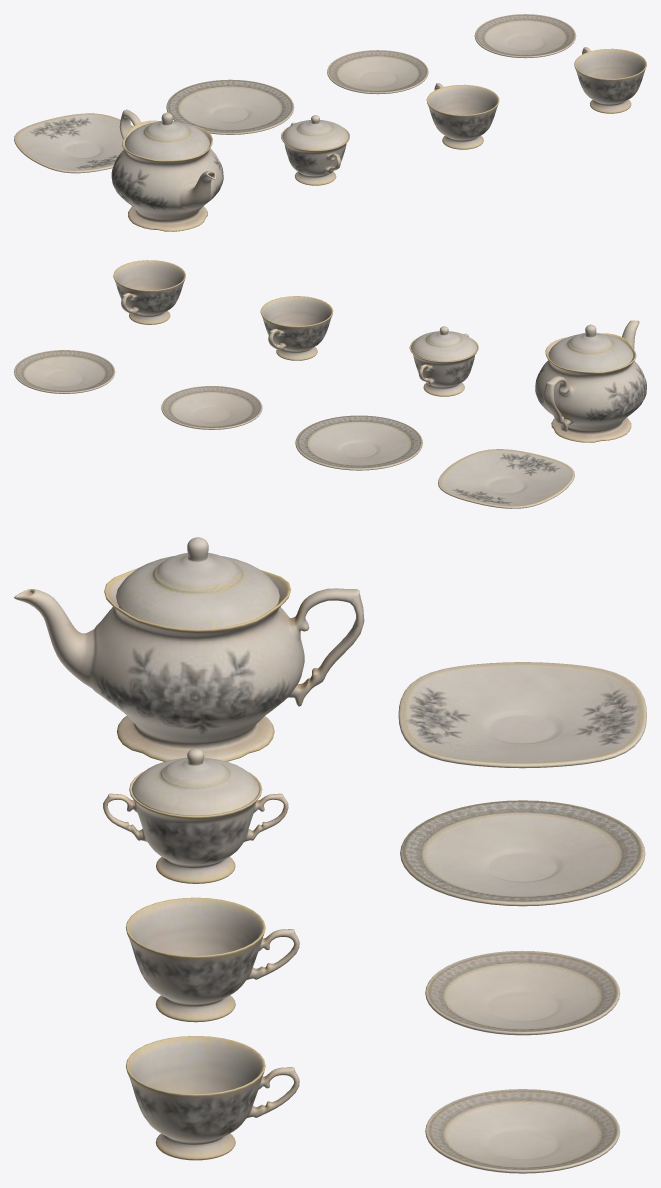
The model's file is tea_set_01_512.gltf.
The picture shows the model from 3 angles, top to bottom: view 1: azimuth 30°, elevation 25°; view 2: azimuth 150°, elevation 25°; view 3: azimuth 270°, elevation 25°; orthographic projection. The views are drawn at different scales.
Parts seen in each view (by area): view 1: tea_set_01_teapot_01, tea_set_01_plate_large_circular_03, tea_set_01_plate_large_square_01, tea_set_01_cup_small_01, tea_set_01_cup_small_02, tea_set_01_saucer_circular_03, tea_set_01_saucer_circular_04, tea_set_01_teapot_01_lid, tea_set_01_sugar_cup_01, tea_set_01_sugar_cup_01_lid; view 2: tea_set_01_teapot_01, tea_set_01_plate_large_square_01, tea_set_01_plate_large_circular_03, tea_set_01_cup_small_01, tea_set_01_cup_small_02, tea_set_01_saucer_circular_04, tea_set_01_saucer_circular_03, tea_set_01_teapot_01_lid, tea_set_01_sugar_cup_01, tea_set_01_sugar_cup_01_lid; view 3: tea_set_01_teapot_01, tea_set_01_plate_large_square_01, tea_set_01_plate_large_circular_03, tea_set_01_cup_small_01, tea_set_01_cup_small_02, tea_set_01_saucer_circular_03, tea_set_01_saucer_circular_04, tea_set_01_teapot_01_lid, tea_set_01_sugar_cup_01, tea_set_01_sugar_cup_01_lid.
Boxes of the visible parts, box(x1,y1,x2,y2) form: tea_set_01_teapot_01: box(111, 109, 223, 231); tea_set_01_plate_large_circular_03: box(166, 79, 294, 134); tea_set_01_plate_large_square_01: box(14, 113, 133, 173); tea_set_01_cup_small_01: box(426, 83, 499, 149); tea_set_01_cup_small_02: box(574, 47, 646, 113); tea_set_01_saucer_circular_03: box(474, 14, 576, 58); tea_set_01_saucer_circular_04: box(327, 50, 428, 94); tea_set_01_teapot_01_lid: box(125, 112, 209, 160); tea_set_01_sugar_cup_01: box(281, 122, 349, 185); tea_set_01_sugar_cup_01_lid: box(282, 115, 348, 150); tea_set_01_teapot_01: box(535, 320, 646, 442); tea_set_01_plate_large_square_01: box(438, 449, 574, 508); tea_set_01_plate_large_circular_03: box(295, 415, 422, 470); tea_set_01_cup_small_01: box(260, 296, 333, 360); tea_set_01_cup_small_02: box(113, 260, 185, 324); tea_set_01_saucer_circular_04: box(161, 386, 262, 429); tea_set_01_saucer_circular_03: box(14, 350, 115, 393); tea_set_01_teapot_01_lid: box(548, 324, 633, 371); tea_set_01_sugar_cup_01: box(409, 333, 478, 396); tea_set_01_sugar_cup_01_lid: box(411, 326, 477, 361); tea_set_01_teapot_01: box(14, 568, 364, 761); tea_set_01_plate_large_square_01: box(398, 662, 646, 768); tea_set_01_plate_large_circular_03: box(400, 800, 645, 906); tea_set_01_cup_small_01: box(125, 897, 299, 1022); tea_set_01_cup_small_02: box(126, 1036, 299, 1160); tea_set_01_saucer_circular_03: box(425, 1089, 620, 1173); tea_set_01_saucer_circular_04: box(425, 950, 620, 1035); tea_set_01_teapot_01_lid: box(116, 537, 279, 628); tea_set_01_sugar_cup_01: box(103, 771, 288, 883); tea_set_01_sugar_cup_01_lid: box(131, 748, 259, 815).
Size of the model in its own units: 0.9185 by 0.165 by 0.4839.
Materials: 1 (1 with a texture image).
